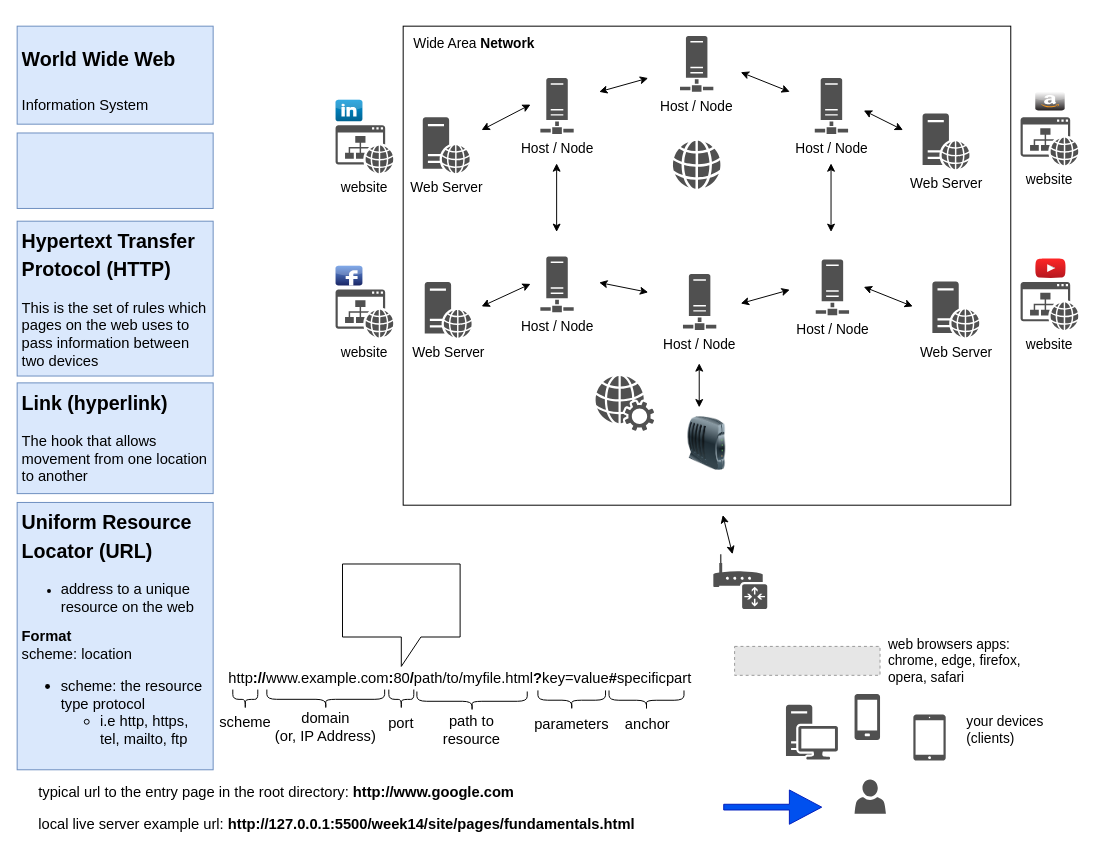
Image size: 1096x856. Some labels were removed from this diagram. Grey dashed boxes stand in for pictures. The centre of each missing label's shape, as x and y in pixels:
Internet: (x=696, y=164)
Internet Is the network: (x=114, y=170)
Internet Service Provider (ISP): (x=624, y=403)
modem: (x=706, y=443)
Omitted, if using standard ports HTTP : 80 HTTPS : 443: (x=401, y=614)
router: (x=740, y=581)
You: (x=869, y=796)
